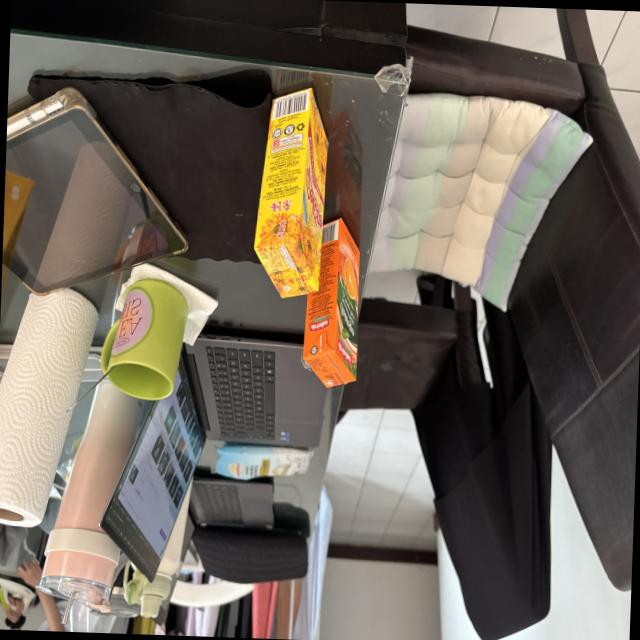drink_carton: (247, 78, 340, 309), (296, 208, 371, 402)
